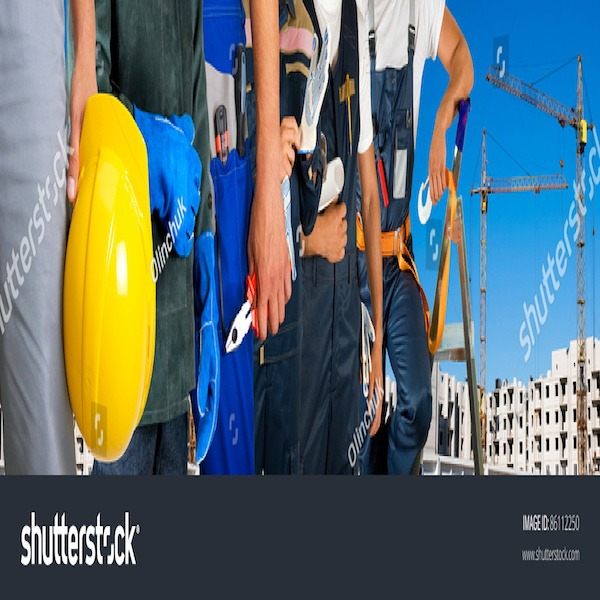helmet: (65, 91, 155, 460)
